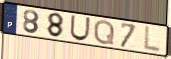7: (120, 22, 138, 49)
8: (45, 12, 66, 39), (23, 9, 41, 34)
L: (142, 25, 163, 55)
Q: (92, 19, 116, 46)
U: (69, 14, 92, 42)
